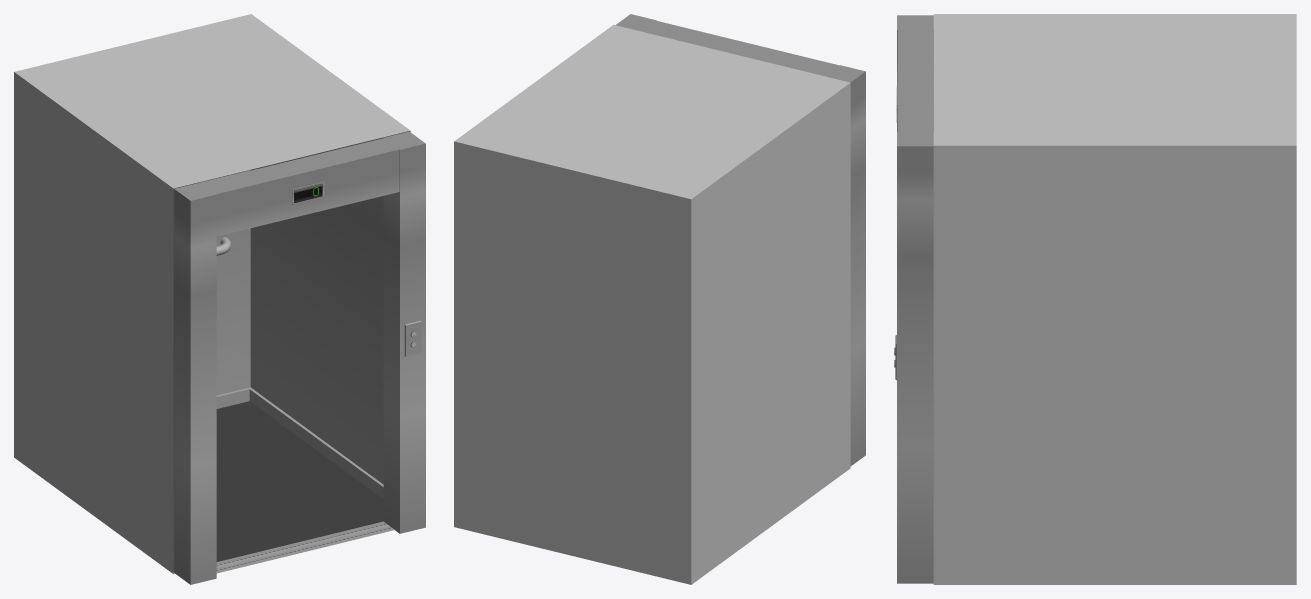
File: elevator-1.glb
The picture shows the model from 3 angles, left to right: view 1: azimuth 30°, elevation 25°; view 2: azimuth 150°, elevation 25°; view 3: azimuth 270°, elevation 25°; orthographic projection. The views are drawn at different scales.
Visible parts, largest first — view 1: Object_8, Object_13, Object_4, Object_9, Object_6, Object_12; view 2: Object_8, Object_13; view 3: Object_8, Object_13.
Part boxes in pixels (box(x1,y1,x2,y2)): Object_8: box(14, 14, 410, 574); Object_13: box(173, 131, 425, 584); Object_4: box(174, 131, 408, 561); Object_9: box(216, 387, 383, 498); Object_6: box(216, 521, 394, 573); Object_12: box(292, 181, 421, 356); Object_8: box(454, 24, 850, 584); Object_13: box(615, 14, 865, 465); Object_8: box(933, 14, 1296, 584); Object_13: box(897, 15, 933, 583).
Size of the model in its own units: 4.29 by 6.66 by 5.54.
Materials: 10 (4 with a texture image).
